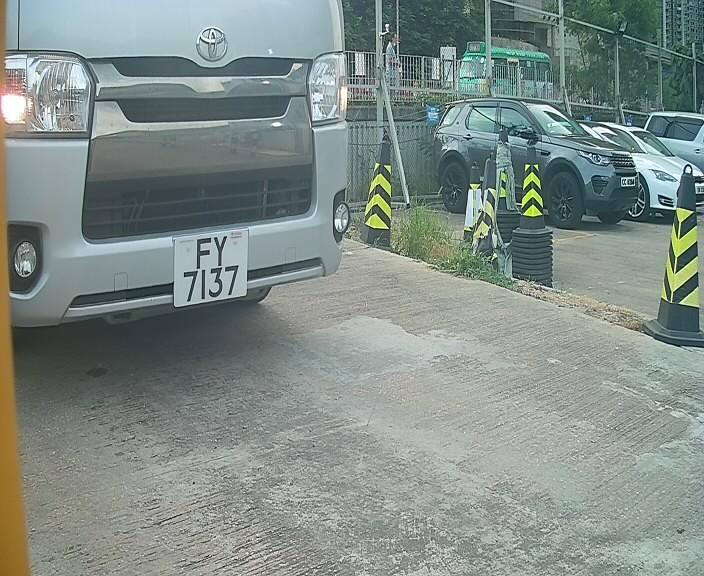License Plate: (158, 227, 261, 314)
